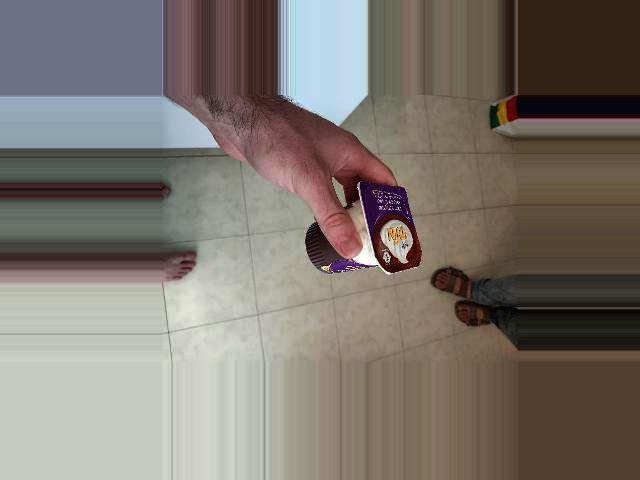milky: (344, 184, 432, 307)
